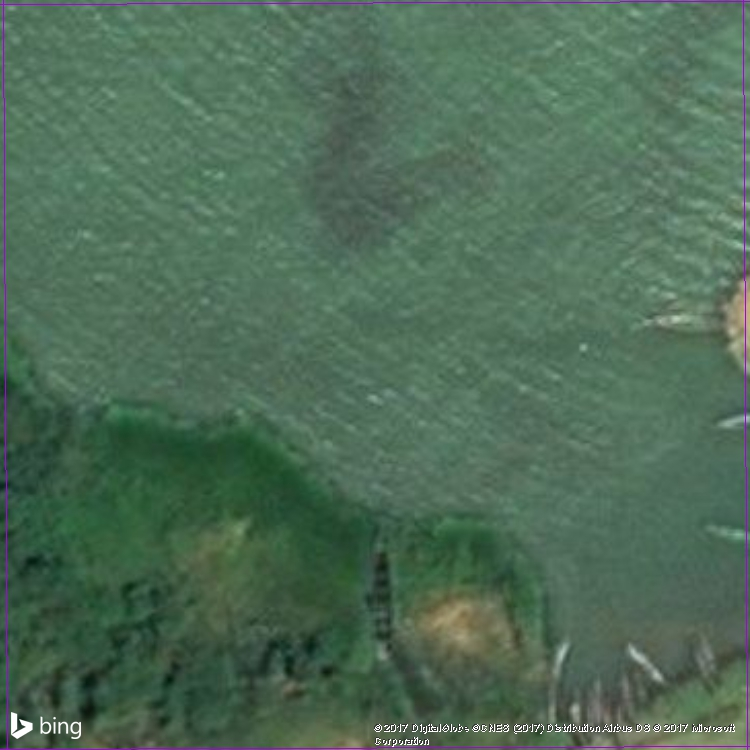boat: (681, 621, 719, 706), (625, 303, 719, 335), (694, 614, 731, 691), (687, 513, 750, 556), (622, 636, 672, 689), (611, 663, 634, 727), (710, 407, 750, 440), (564, 676, 584, 741), (549, 634, 575, 681), (585, 672, 603, 727), (630, 664, 651, 707)
